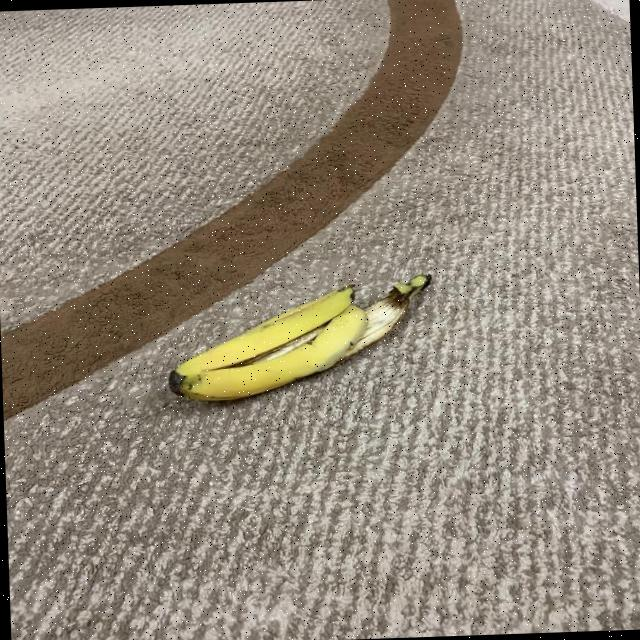banana-peel: (162, 272, 434, 404)
